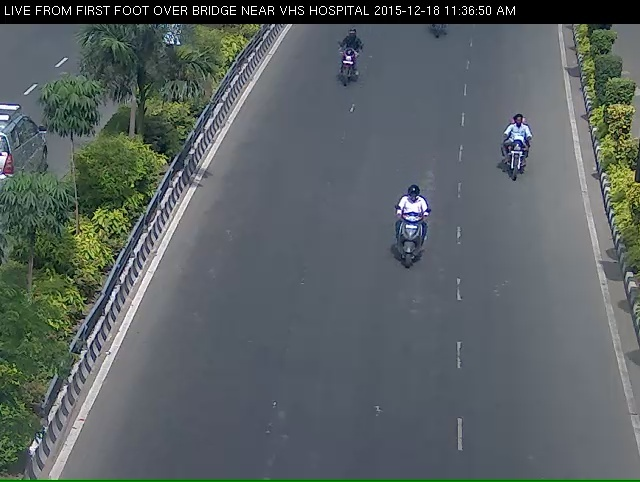Person: (381, 194, 445, 292), (502, 115, 540, 195), (321, 39, 364, 108)
